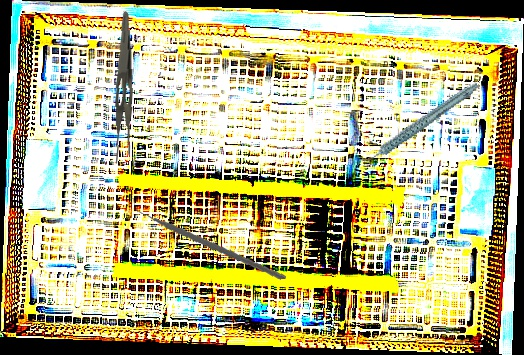Chopper: (131, 180, 287, 297)
Dressing Forceps: (105, 10, 138, 166)
Handpiece: (348, 80, 490, 165)
